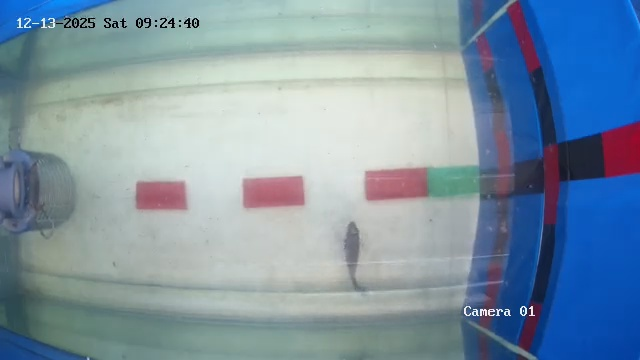fish: (338, 221, 369, 279)
